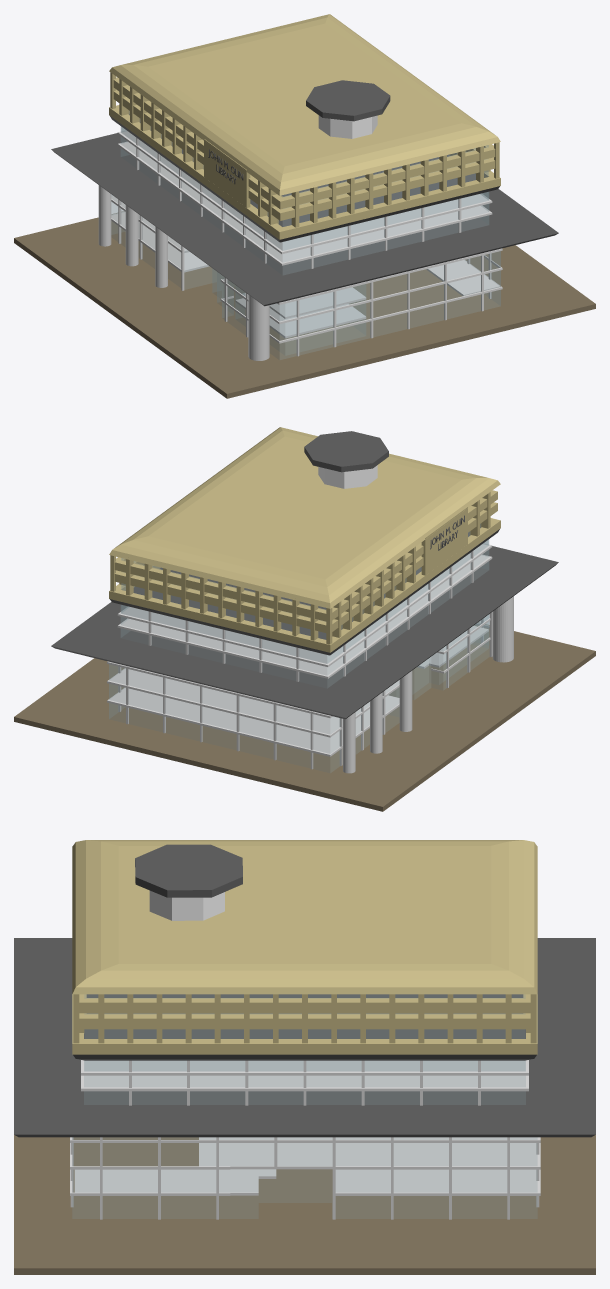
Rendered from LibraryOlin.glb.
3 renders of one model, top to bottom at view 1: azimuth 30°, elevation 25°; view 2: azimuth 150°, elevation 25°; view 3: azimuth 270°, elevation 25°, orthographic. The views are drawn at different scales.
Parts seen in each view (by area): view 1: Plane.003, Plane.002, Plane, Cube.085, Cube.001, Cube.003, Cube.058, Cube.006, Cube.002, Cube.057, Cube.005, Circle.001 (+12 smaller); view 2: Plane.002, Plane.003, Plane, Cube.085, Cube.001, Cube.003, Cube.086, Cube.088, Cube.058, Cube.006, Cube.002, Cube.057 (+11 smaller); view 3: Plane.002, Plane.003, Plane, Cube.085, Cube.001, Cube.002, Plane.001, Cube.058, Cube.003, Cube.006, Cube.005, Cube.057 (+11 smaller).
Part boxes in pixels (box(x1,y1,x2,y2)): Plane.003: box(14, 211, 595, 398); Plane.002: box(109, 14, 500, 195); Plane: box(51, 133, 558, 306); Cube.085: box(111, 195, 500, 359); Cube.001: box(121, 127, 488, 274); Cube.003: box(109, 105, 500, 239); Cube.058: box(117, 141, 492, 265); Cube.006: box(117, 130, 492, 253); Cube.002: box(121, 111, 488, 249); Cube.057: box(113, 77, 495, 209); Cube.005: box(113, 89, 495, 220); Circle.001: box(306, 80, 390, 121); Plane.002: box(109, 427, 500, 608); Plane.003: box(14, 622, 595, 811); Plane: box(51, 546, 558, 719); Cube.085: box(109, 614, 489, 772); Cube.001: box(121, 540, 488, 687); Cube.003: box(109, 518, 500, 652); Cube.086: box(107, 687, 369, 756); Cube.088: box(107, 668, 369, 737); Cube.058: box(117, 554, 492, 678); Cube.006: box(117, 543, 492, 666); Cube.002: box(121, 524, 488, 662); Cube.057: box(114, 490, 497, 621); Plane.002: box(72, 840, 537, 994); Plane.003: box(14, 1135, 595, 1274); Plane: box(14, 938, 595, 1137); Cube.085: box(72, 1137, 537, 1218); Cube.001: box(84, 1061, 525, 1104); Cube.002: box(84, 994, 525, 1070); Plane.001: box(73, 994, 536, 1060); Cube.058: box(81, 1075, 528, 1091); Cube.003: box(72, 994, 537, 1054); Cube.006: box(81, 1060, 528, 1075); Cube.005: box(79, 1013, 530, 1029); Cube.057: box(79, 994, 530, 1013).
Bounding box in the file's own units: 10 × 5.4 × 10.
